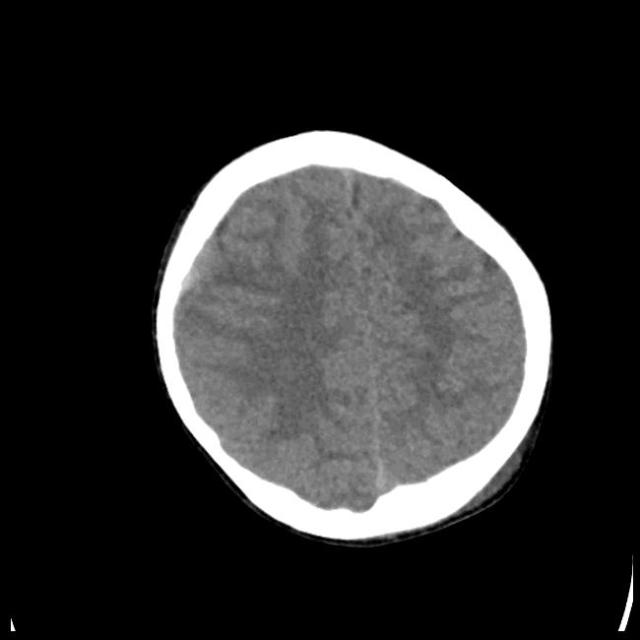lesion: (148, 126, 557, 548)
